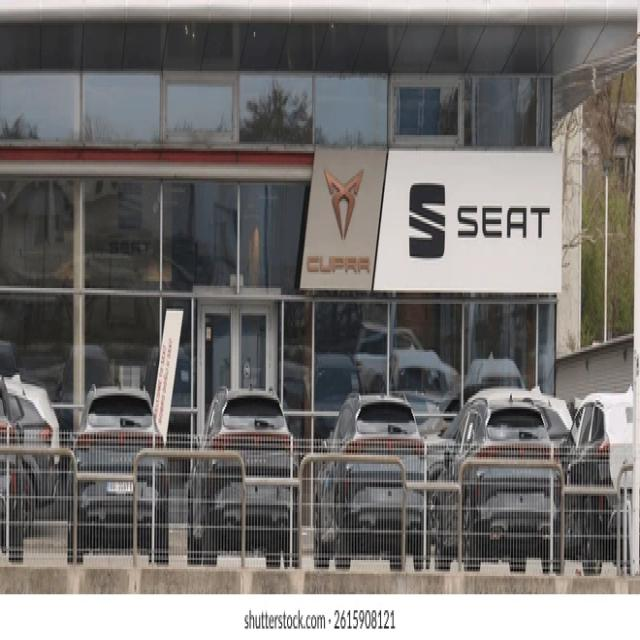cupra: (323, 160, 365, 245)
seat: (407, 171, 449, 268)
